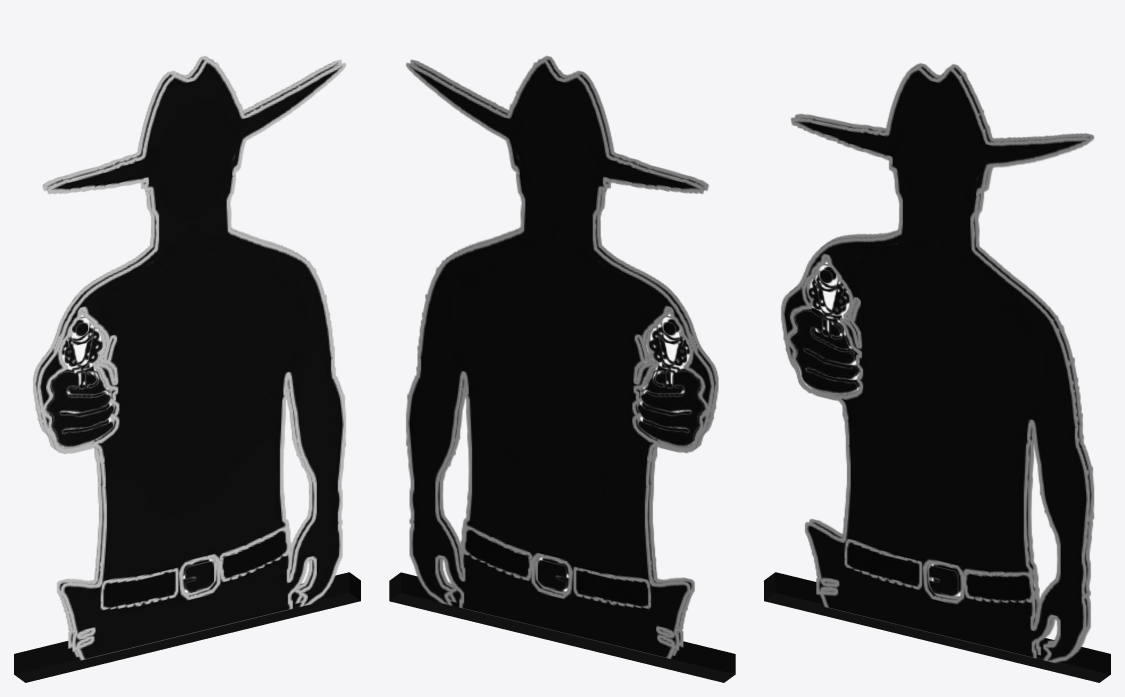
File: target1.glb
The picture shows the model from 3 angles, left to right: view 1: azimuth 30°, elevation 25°; view 2: azimuth 150°, elevation 25°; view 3: azimuth 330°, elevation 25°; orthographic projection.
Parts seen in each view (by area): view 1: target1; view 2: target1; view 3: target1.
Part boxes in pixels (x1,y1,x2,y2): target1: [14, 56, 360, 682]; target1: [389, 55, 735, 682]; target1: [764, 63, 1110, 682].
Size of what is drawn, in the model's own units: 1.05 by 1.76 by 0.0622.
1 material, 1 textured.
